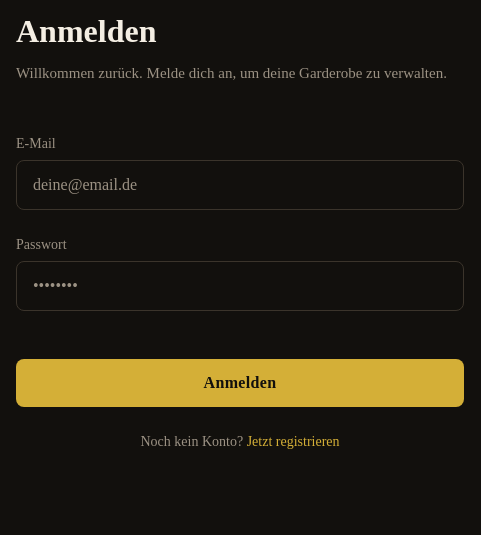
Scenario: Login › zeigt eine verständliche Fehlermeldung bei falschen Zugangsdaten
Type "nutzer@example.de" into the field labelled "E-Mail" at (240, 185), box [16,160,464,210]
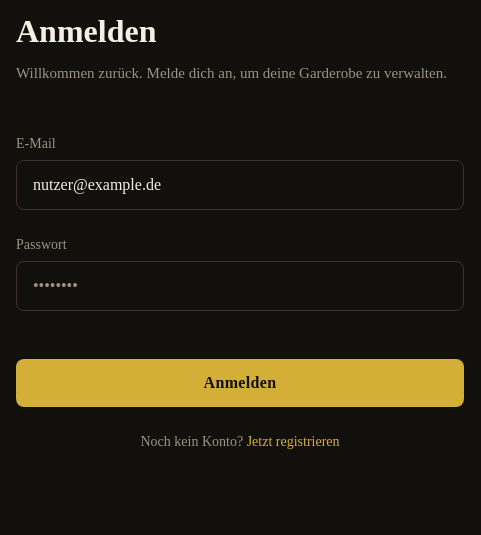
Type "falsches-passwort" into the password field labelled "Passwort" at (240, 286), box [16,261,464,311]
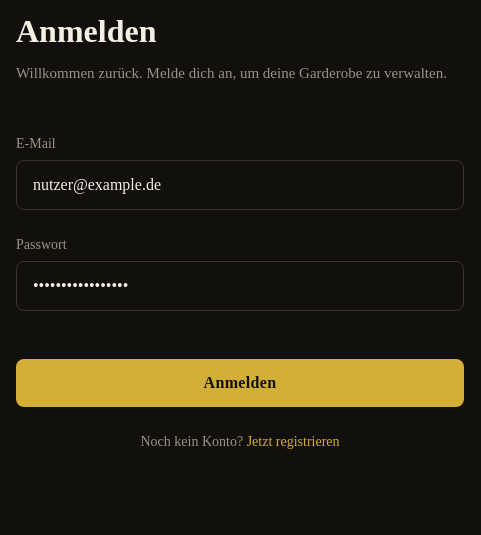
Submit the form from the button "Anmelden", box [16,359,464,407]
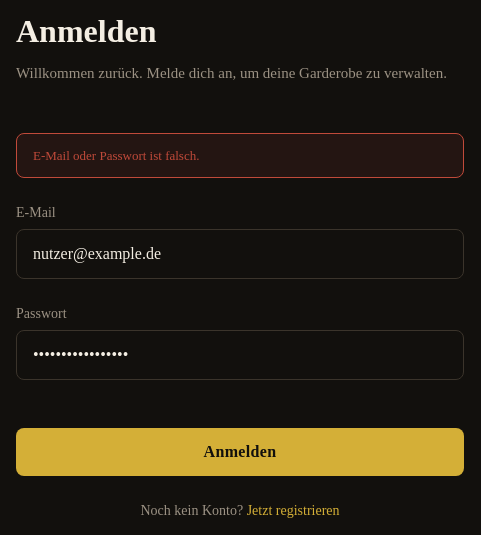
Now the message reads "E-Mail oder Passwort ist falsch.", box [33,148,200,163]
